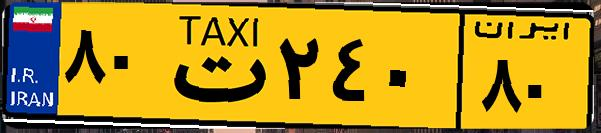0: (385, 28, 445, 110), (525, 38, 570, 115), (110, 28, 158, 98)
2: (270, 28, 330, 110)
4: (330, 28, 385, 110)
8: (57, 26, 110, 100), (475, 38, 525, 113)
ت: (158, 12, 270, 120)
